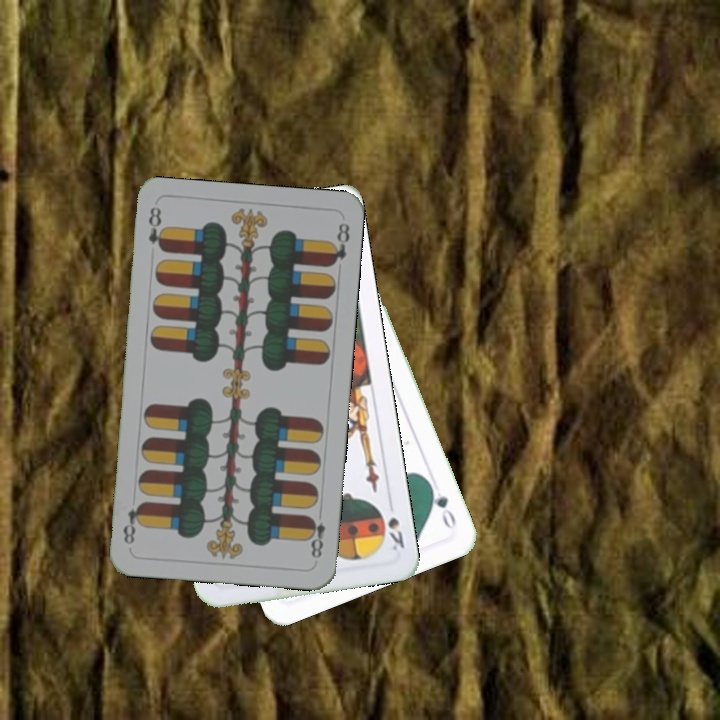E8: (303, 505, 328, 561), (144, 202, 168, 254)
GO: (424, 478, 459, 532)
SK: (384, 513, 407, 554)
